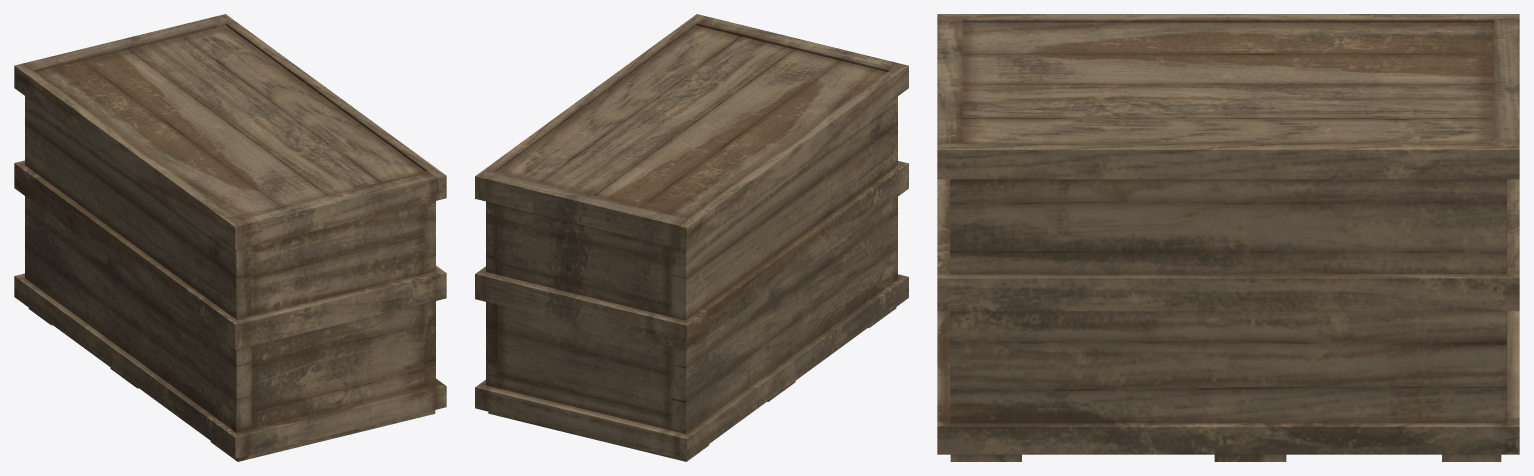
Rendered from caga.gltf.
3 renders of one model, left to right at view 1: azimuth 30°, elevation 25°; view 2: azimuth 150°, elevation 25°; view 3: azimuth 270°, elevation 25°, orthographic. The views are drawn at different scales.
Parts seen in each view (by area): view 1: CajaA36; view 2: CajaA36; view 3: CajaA36.
Part boxes in pixels (x1,y1,x2,y2): CajaA36: (14, 14, 446, 461); CajaA36: (475, 14, 908, 461); CajaA36: (937, 14, 1519, 461).
Size of the model in its own units: 0.7521 by 0.8163 by 1.36.
